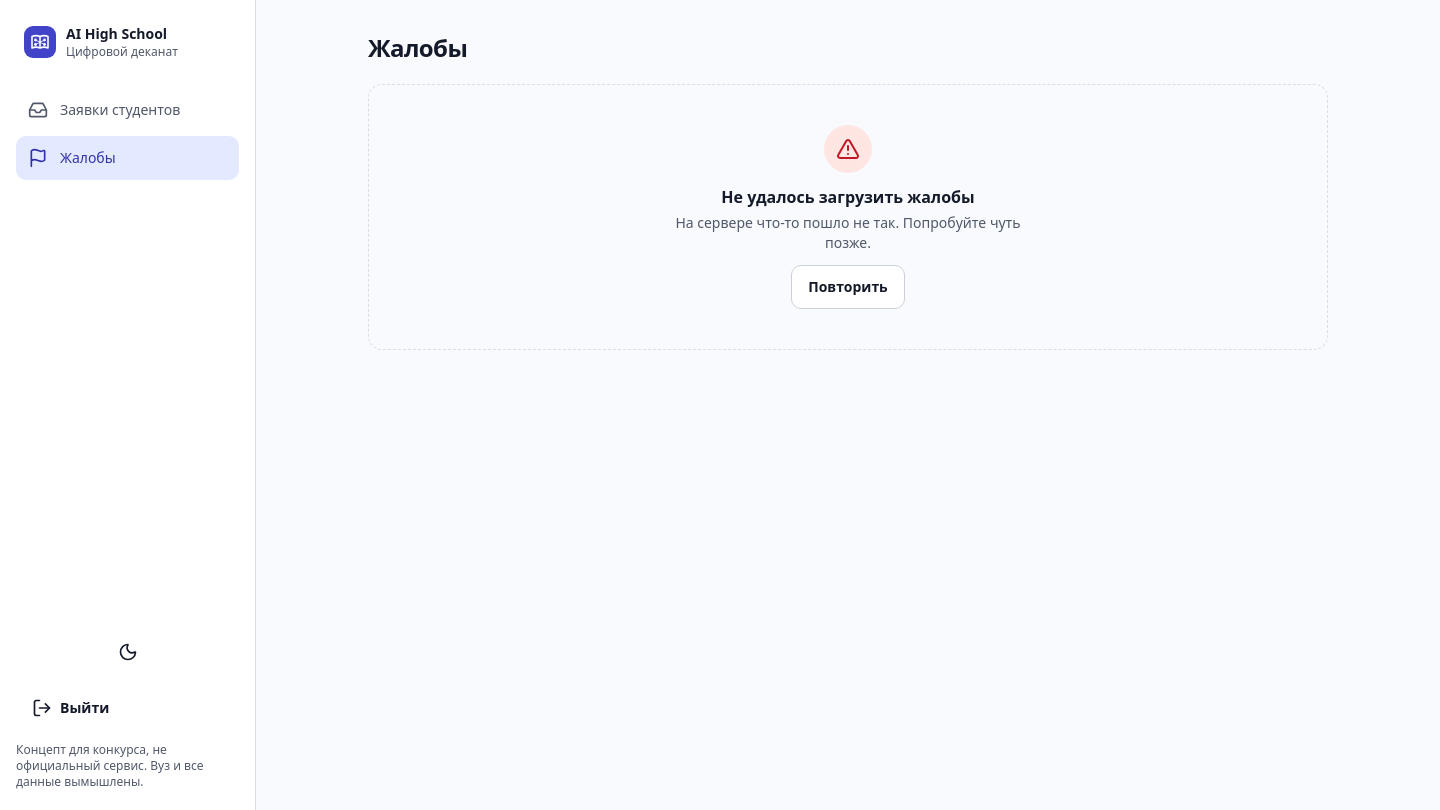
Test: показывает ошибку очереди, повтор и пустое состояние
Click the button "Повторить" at (848, 287), box [791,265,905,309]
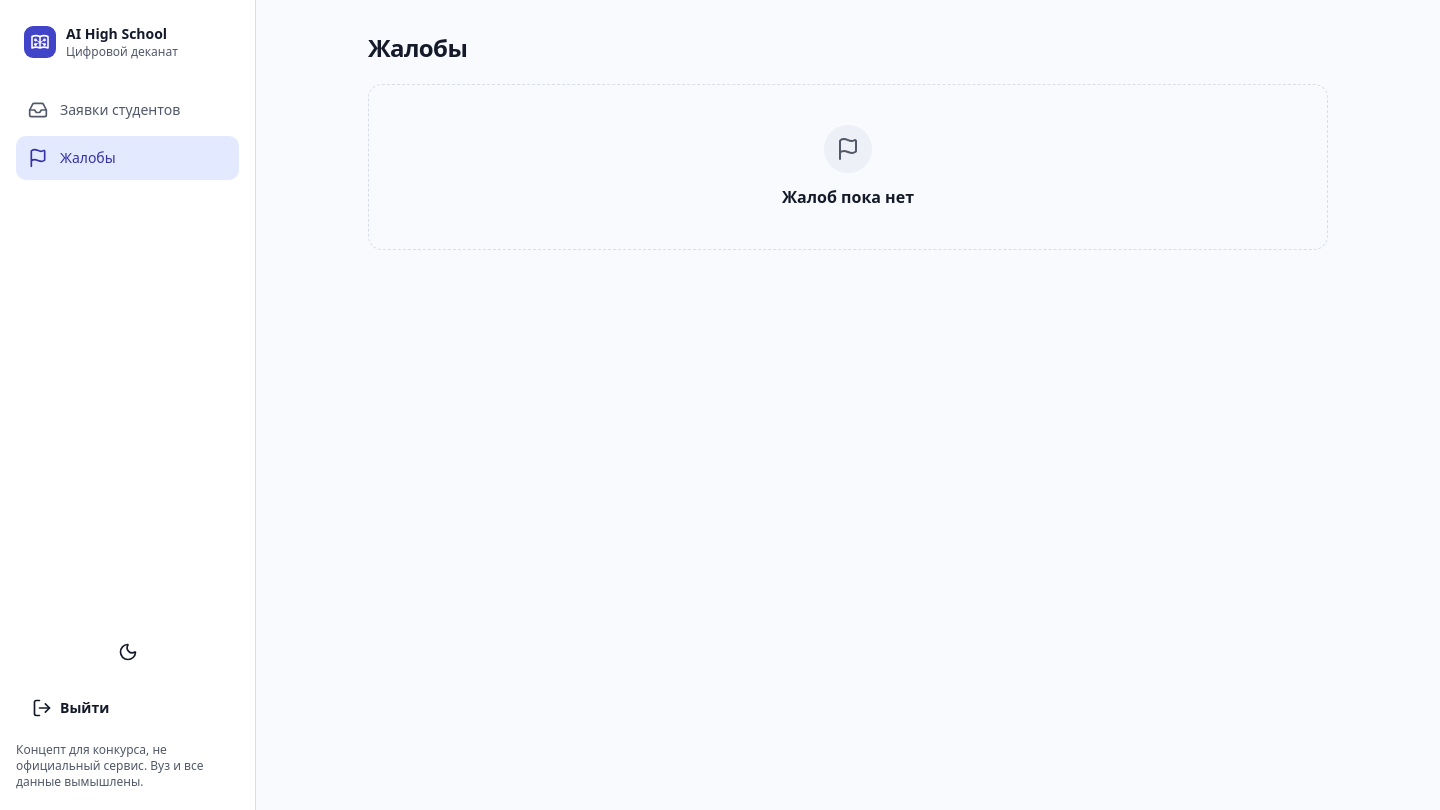
Expected: the text "Жалоб пока нет" is shown, [782,185,914,209]
